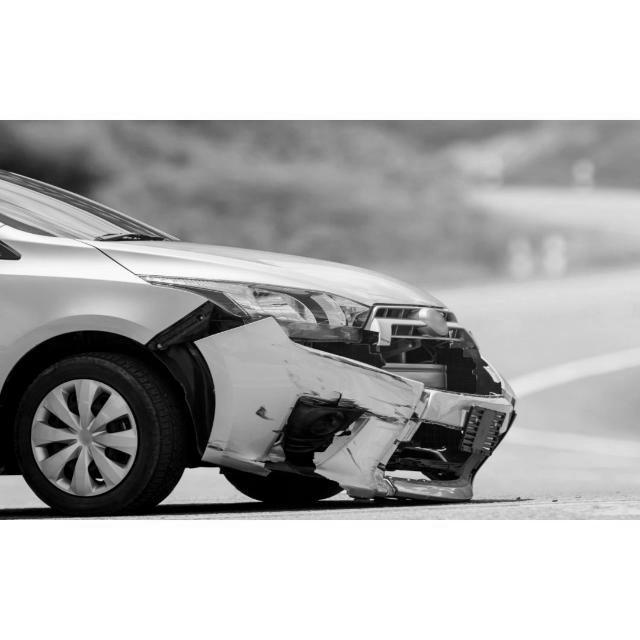front-bumper-dent: (167, 311, 510, 501)
